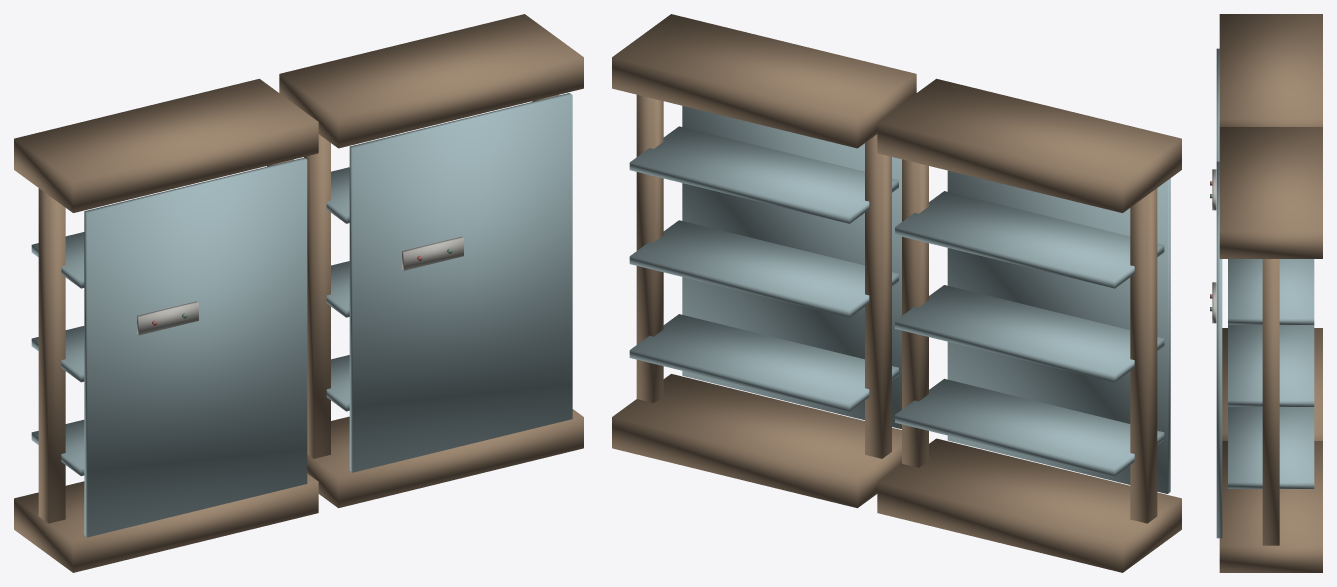
The model's file is glass_display_cabinet__cluster.glb.
The picture shows the model from 3 angles, left to right: view 1: azimuth 30°, elevation 25°; view 2: azimuth 150°, elevation 25°; view 3: azimuth 270°, elevation 25°; orthographic projection. The views are drawn at different scales.
Parts seen in each view (by area): view 1: world; view 2: world; view 3: world.
Boxes of the visible parts, <box> form: world: <box>14,14,583,572</box>; world: <box>612,14,1181,572</box>; world: <box>1210,14,1322,572</box>.
Size of the model in its own units: 2.39 by 1.75 by 0.5235.
